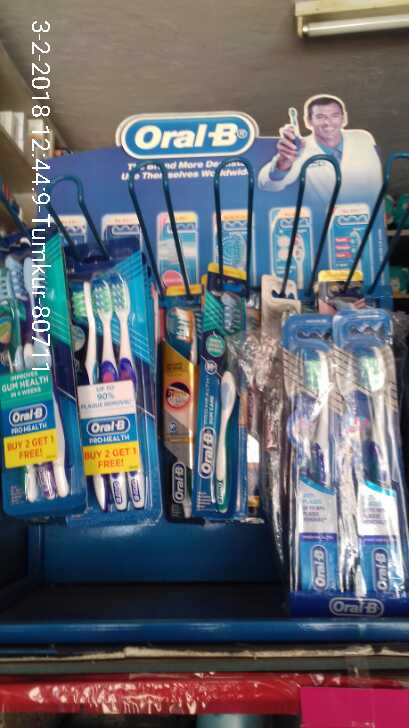oralb: (73, 261, 155, 507), (336, 337, 409, 589), (1, 243, 65, 518), (174, 300, 243, 514), (285, 337, 335, 590)
